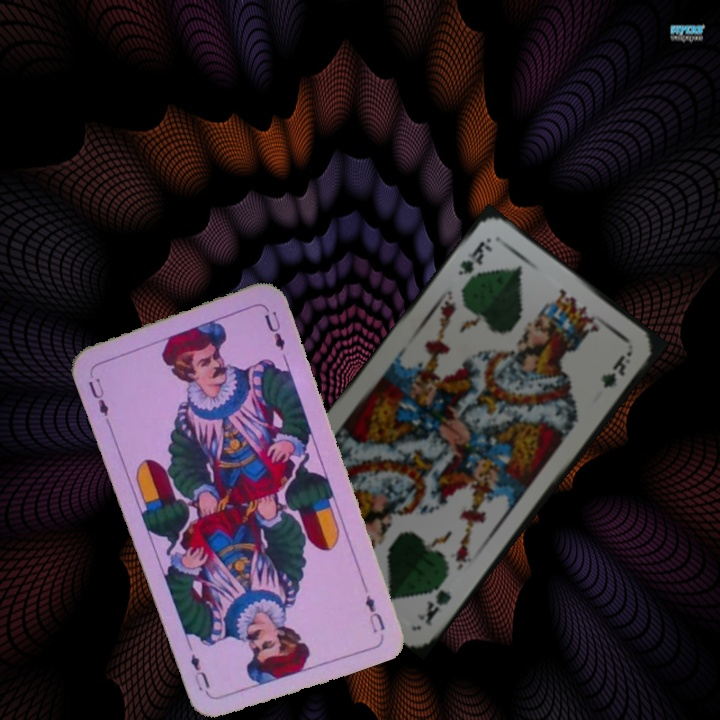EU: (84, 368, 112, 419), (361, 591, 388, 636)
GK: (453, 235, 495, 279), (413, 585, 454, 629)
